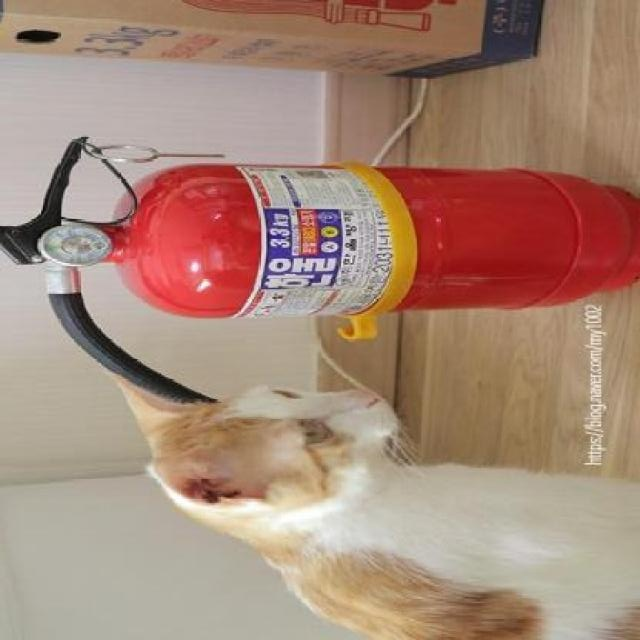fire extinguisher: (0, 134, 640, 406)
